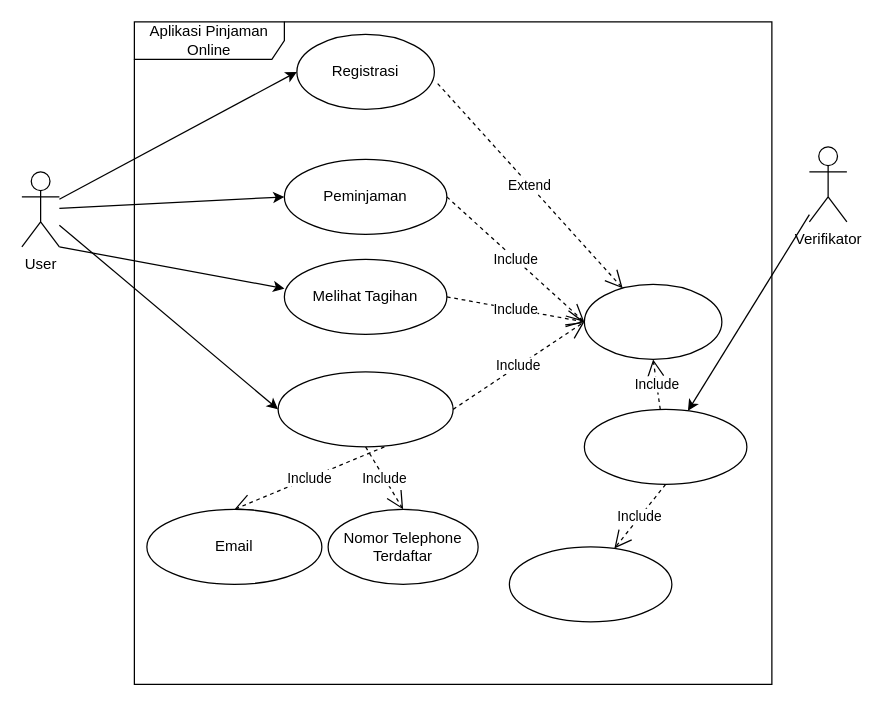
Some shapes in this 883 by 706 pixel diagram are drawn without their labels. The box of each missing label's shape, as (x1, y1, x2, y2) in pixels:
Kirim Notifikasi: (508, 546, 672, 622)
Login: (583, 283, 722, 359)
Notifikasi: (277, 371, 453, 447)
Review and Approval: (583, 408, 747, 484)
